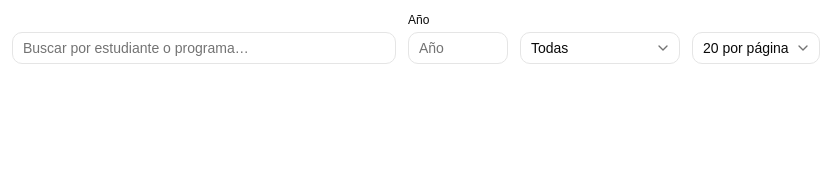
Test: EnrollmentsFilterBar — Status Select › renders Todas option (sentinel) and status options
Click the dropdown named "estado": (600,48) [520,32,680,64]
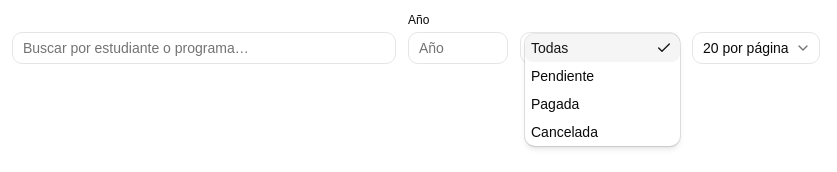
Expected: the option "Pendiente" is shown, [531,68,594,84]
Expected: the option "Pagada" is shown, [531,96,579,112]
Expected: the option "Cancelada" is shown, [531,124,598,140]
